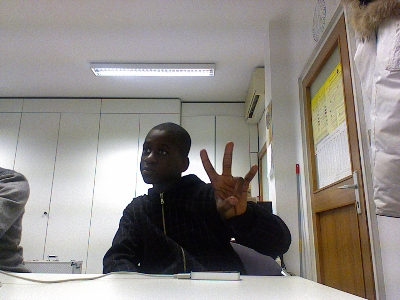观音: (199, 140, 258, 219)
